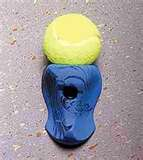tennis ball: (42, 11, 105, 67)
